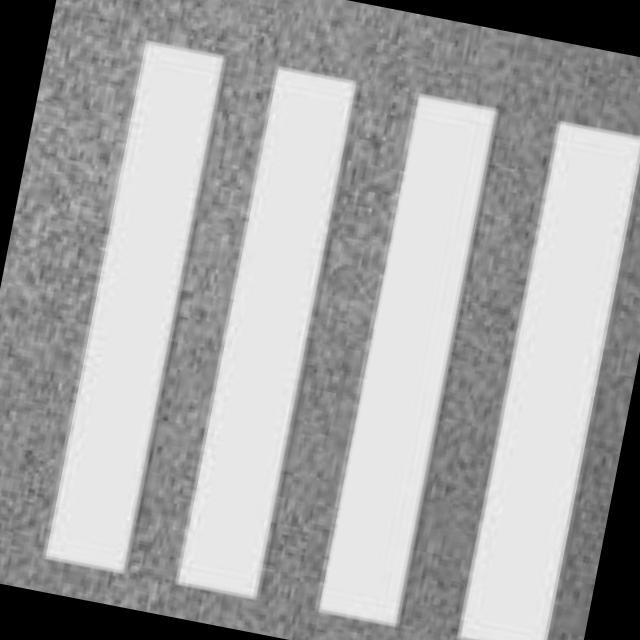zebra: (31, 33, 640, 640)
